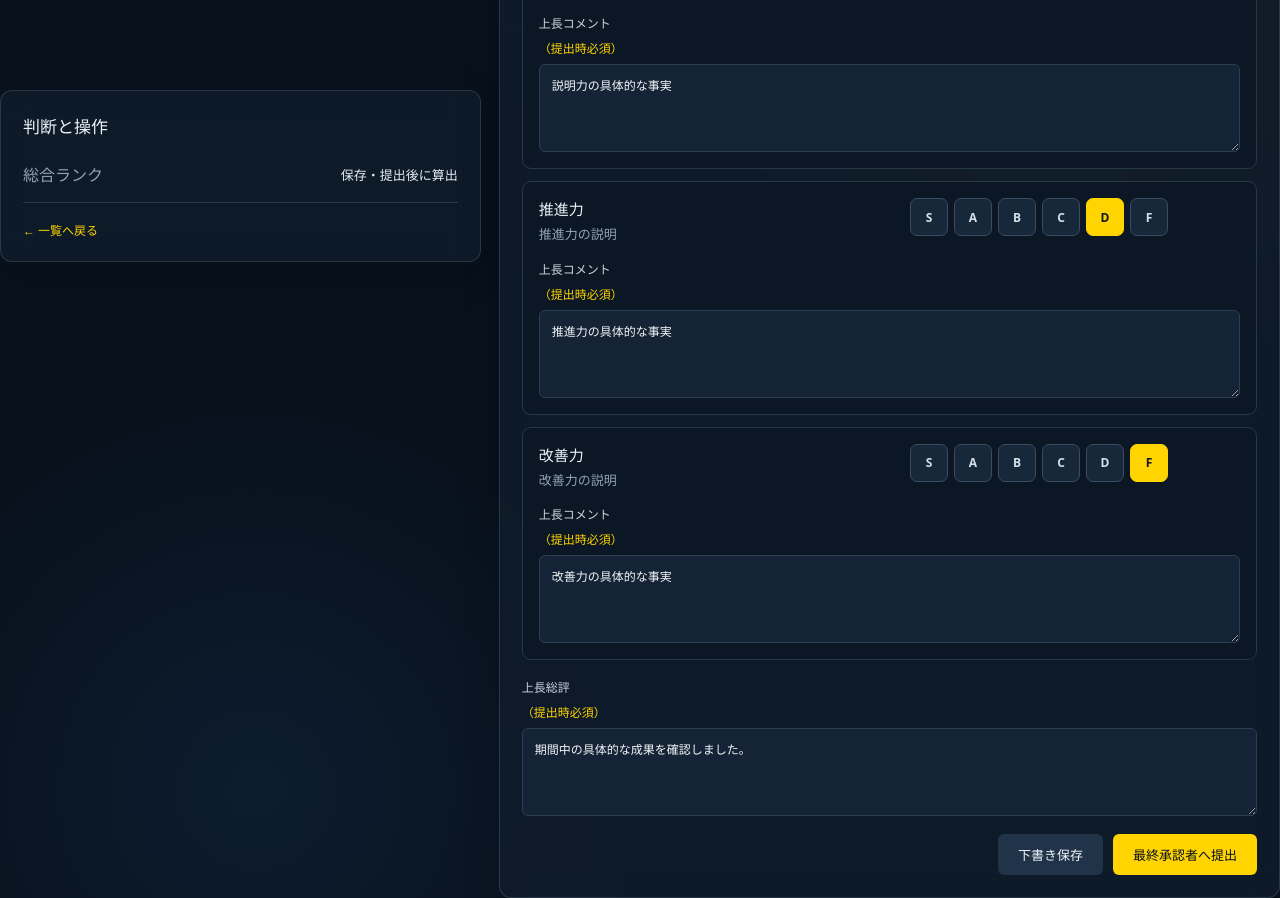
it: 評価承認画面 › 提出前保存後のPOST失敗で最新versionを保持し、再試行を古いversionで送らない
(page scrolled)
Click the button "最終承認者へ提出". click: (1185, 855)
box: x1=1113 y1=834 x2=1257 y2=875
(page scrolled)
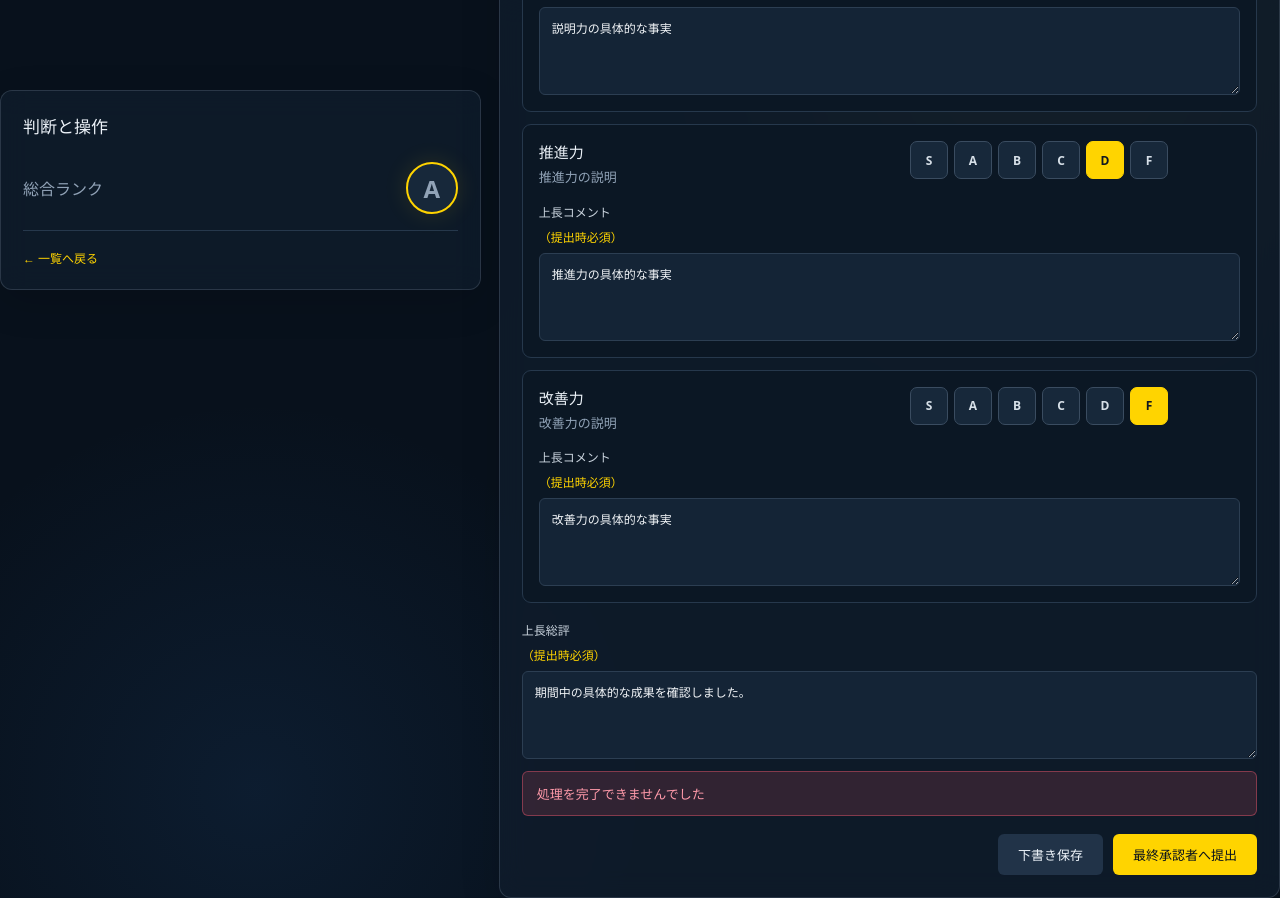
Expected: the message reads "処理を完了できませんでした", x1=537 y1=785 x2=705 y2=803
Click the button "最終承認者へ提出". click: (1185, 855)
box: x1=1113 y1=834 x2=1257 y2=875
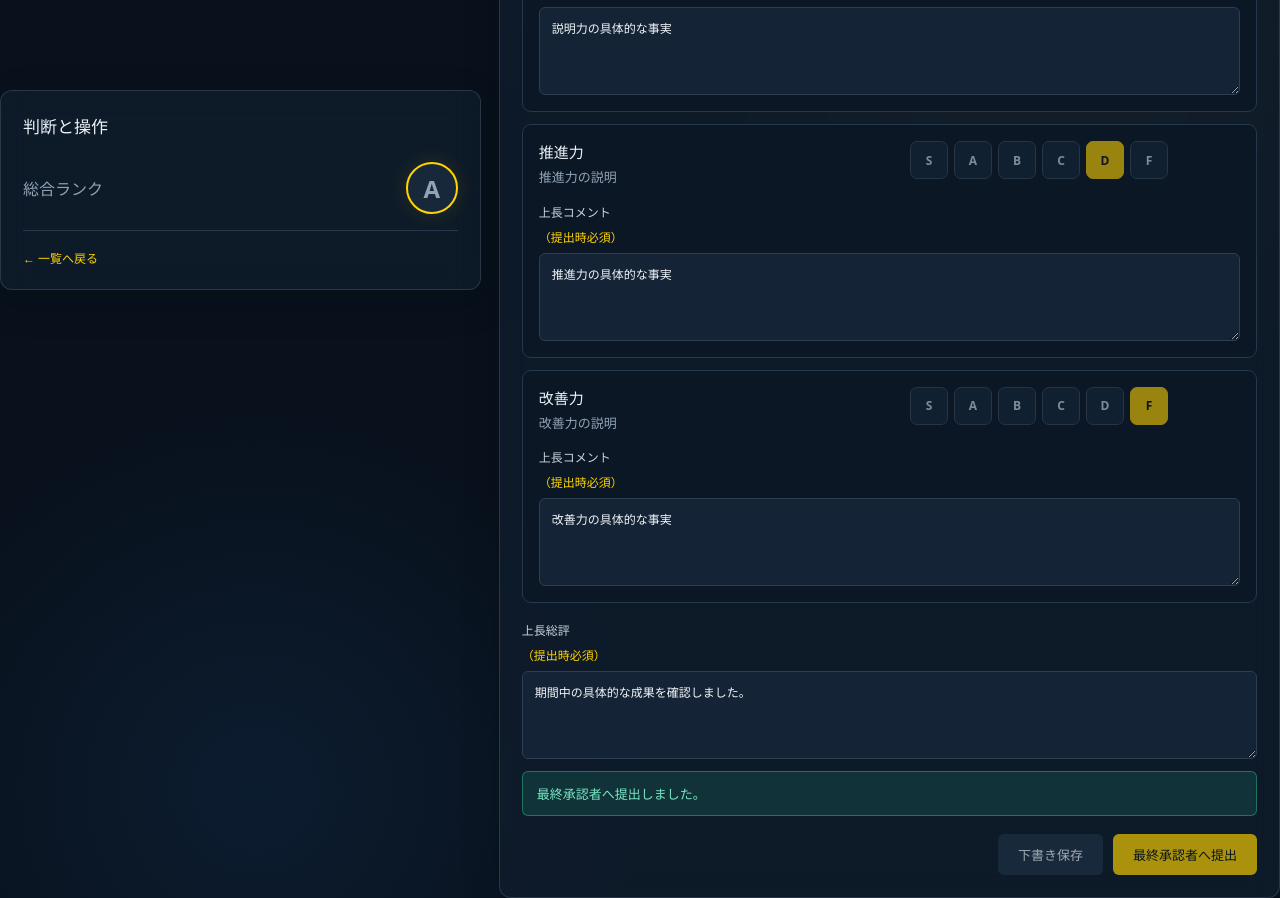
Expected: the text "最終承認者へ提出しました。" is shown, x1=522 y1=771 x2=1257 y2=816
